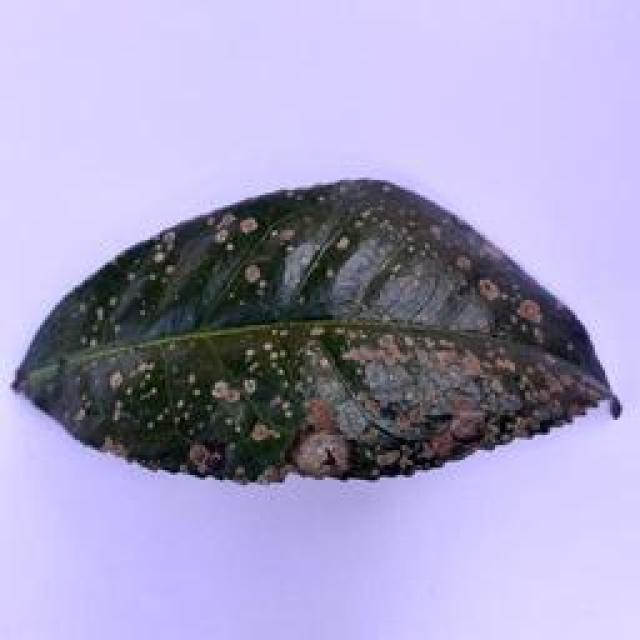Algal Leaf Spot: (22, 174, 624, 505)
